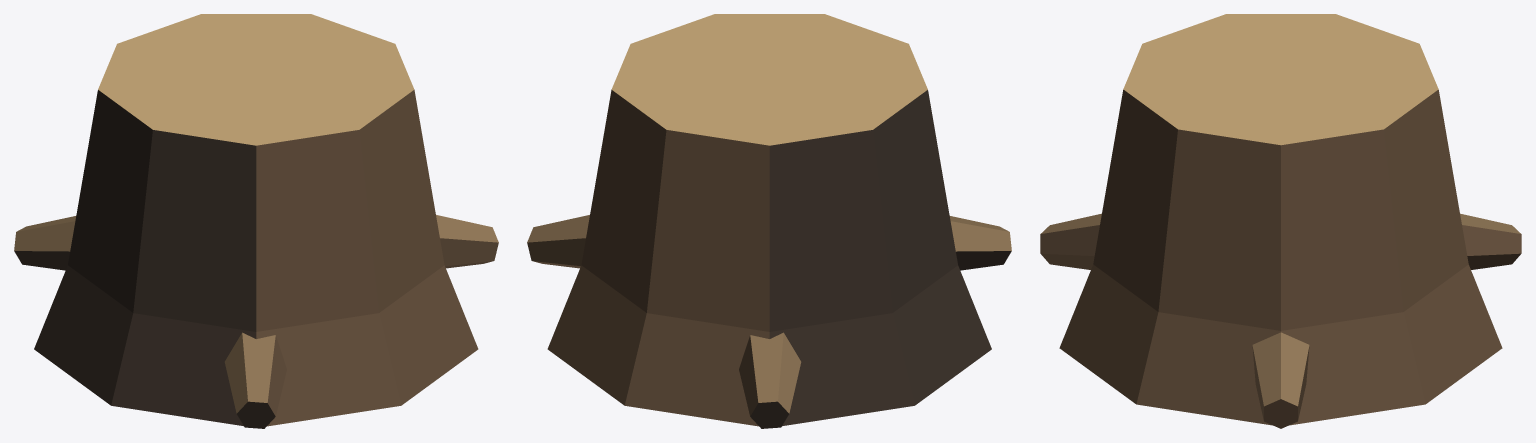
File: TW_PROP_STUMP_ROUND_A_LOD0.glb
3 views of the same model, side by side, from view 1: azimuth 30°, elevation 25°; view 2: azimuth 150°, elevation 25°; view 3: azimuth 270°, elevation 25° (orthographic).
Parts seen in each view (by area): view 1: TW_PROP_STUMP_ROUND_A_LOD0; view 2: TW_PROP_STUMP_ROUND_A_LOD0; view 3: TW_PROP_STUMP_ROUND_A_LOD0.
Boxes of the visible parts, left/top/right/bottom form: TW_PROP_STUMP_ROUND_A_LOD0: left=14, top=14, right=498, bottom=428; TW_PROP_STUMP_ROUND_A_LOD0: left=527, top=14, right=1011, bottom=428; TW_PROP_STUMP_ROUND_A_LOD0: left=1040, top=14, right=1521, bottom=428.
Size of the model in its own units: 0.8622 by 0.5 by 0.8578.
Materials: 1 (1 with a texture image).
